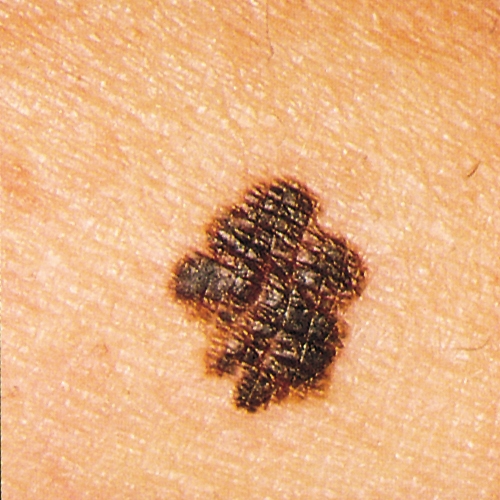Melanoma: (170, 178, 369, 415)
